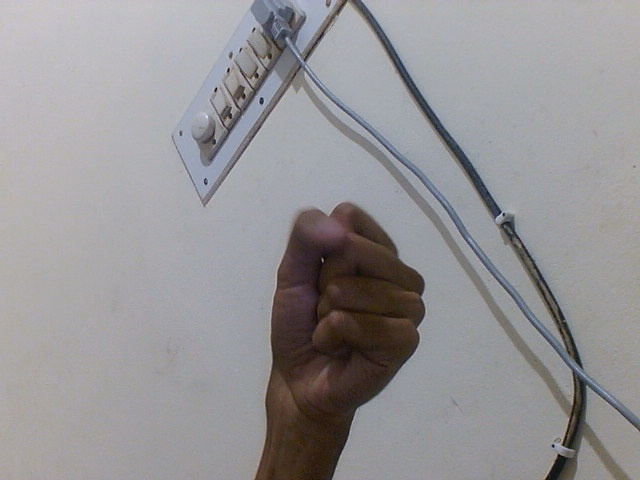hand: (265, 198, 430, 432)
